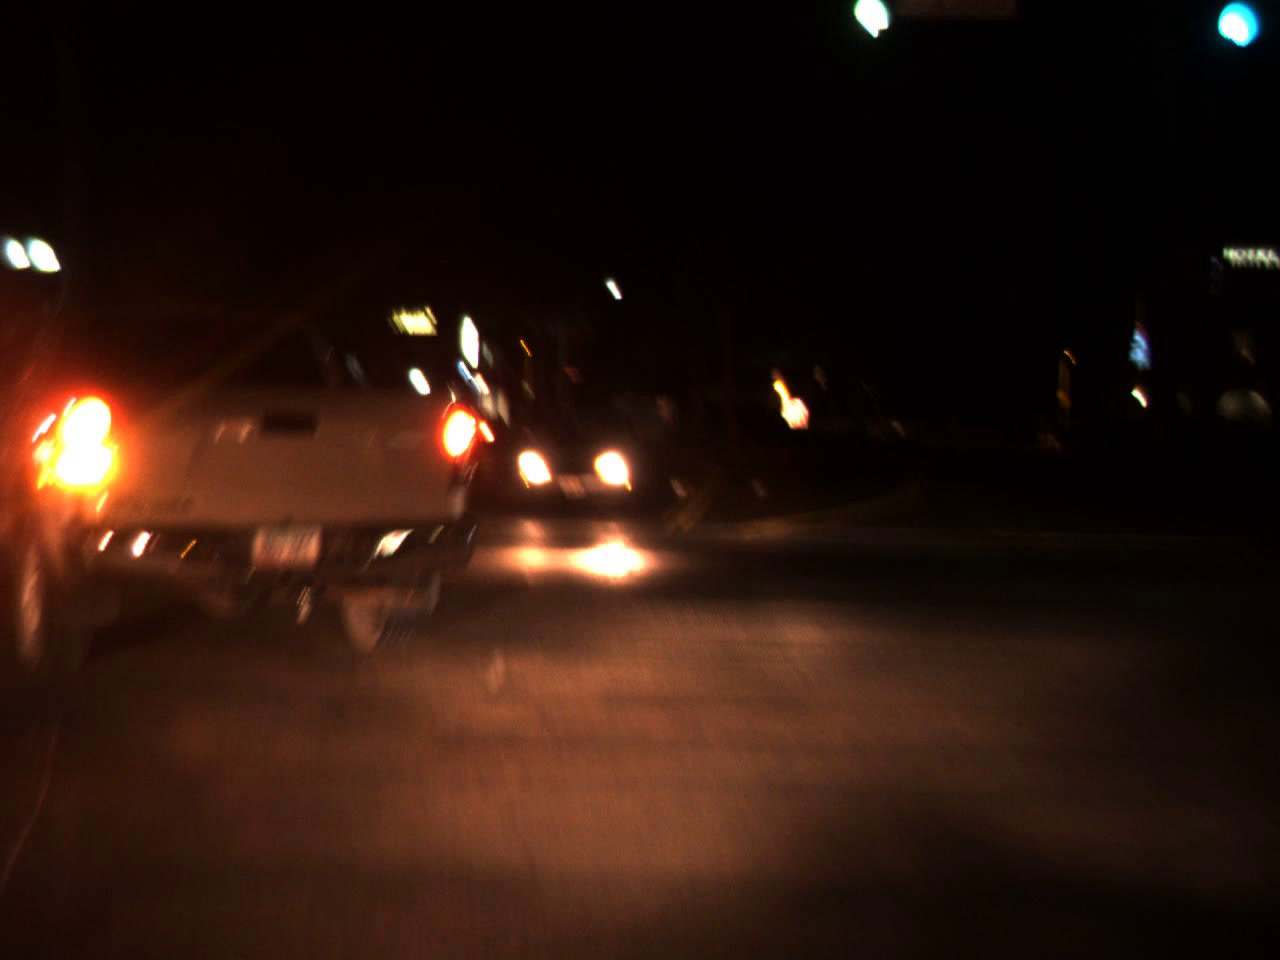go: (835, 0, 903, 45), (1206, 0, 1256, 56)
